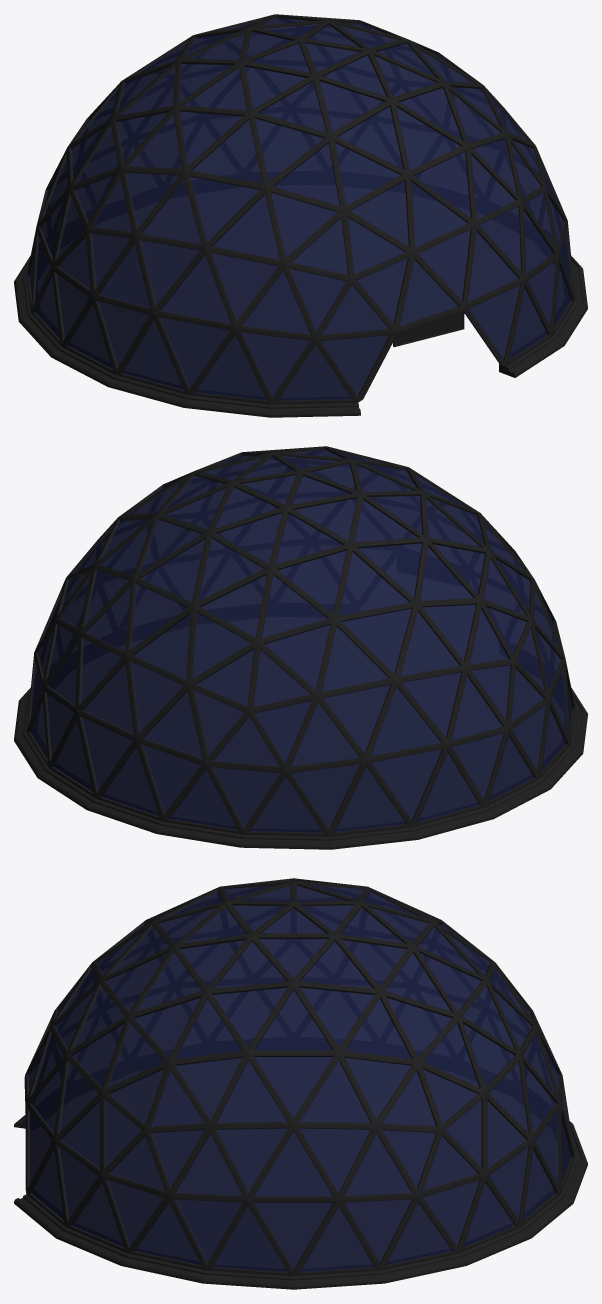
The model's file is dome.glb.
3 renders of one model, top to bottom at view 1: azimuth 30°, elevation 25°; view 2: azimuth 150°, elevation 25°; view 3: azimuth 270°, elevation 25°, orthographic.
Parts seen in each view (by area): view 1: Icosphere.001, bilgi_m_t; view 2: Icosphere.001; view 3: Icosphere.001.
Boxes of the visible parts, x1,y1,x2,y2 form: Icosphere.001: (14, 14, 587, 417); bilgi_m_t: (393, 312, 464, 347); Icosphere.001: (14, 446, 587, 849); Icosphere.001: (14, 878, 587, 1289).
Size of the model in its own units: 33.08 by 16.3 by 32.27.
